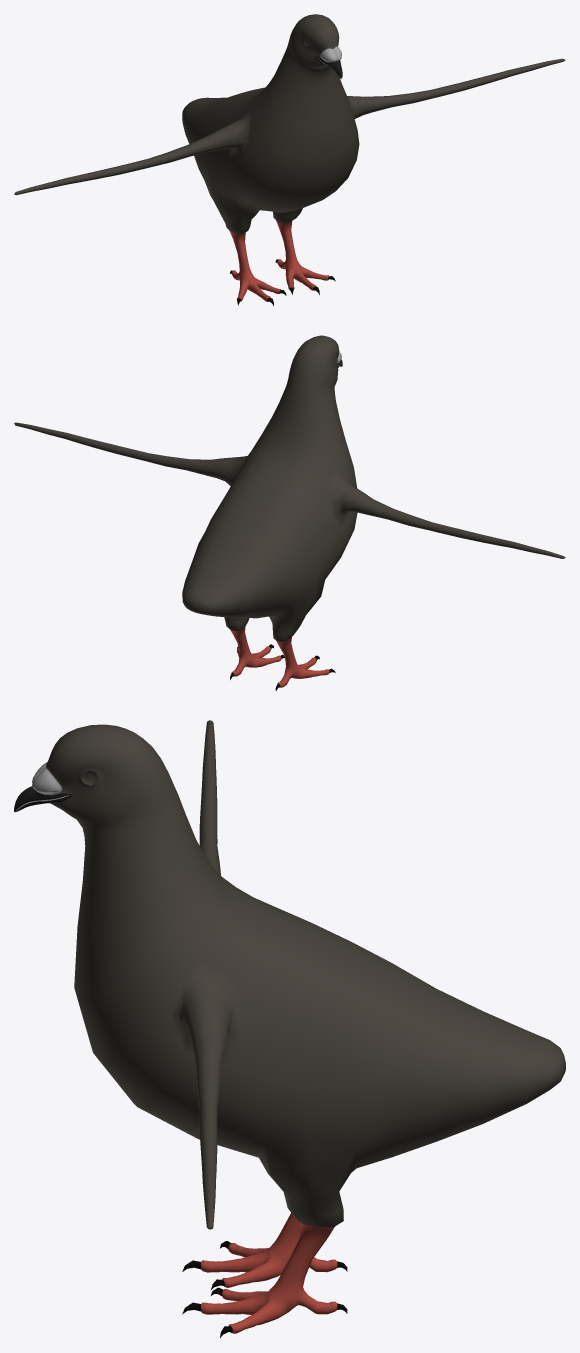
Rendered from pigeon_pigeon.obj.
The picture shows the model from 3 angles, top to bottom: view 1: azimuth 30°, elevation 25°; view 2: azimuth 150°, elevation 25°; view 3: azimuth 270°, elevation 25°; orthographic projection. The views are drawn at different scales.
Parts seen in each view (by area): view 1: pigeon; view 2: pigeon; view 3: pigeon.
Boxes of the visible parts, bbox=[...] form: pigeon: bbox=[14, 14, 565, 305]; pigeon: bbox=[14, 335, 565, 690]; pigeon: bbox=[14, 720, 565, 1337].
Bounding box in the file's own units: 0.4843 × 0.2511 × 0.2222.
